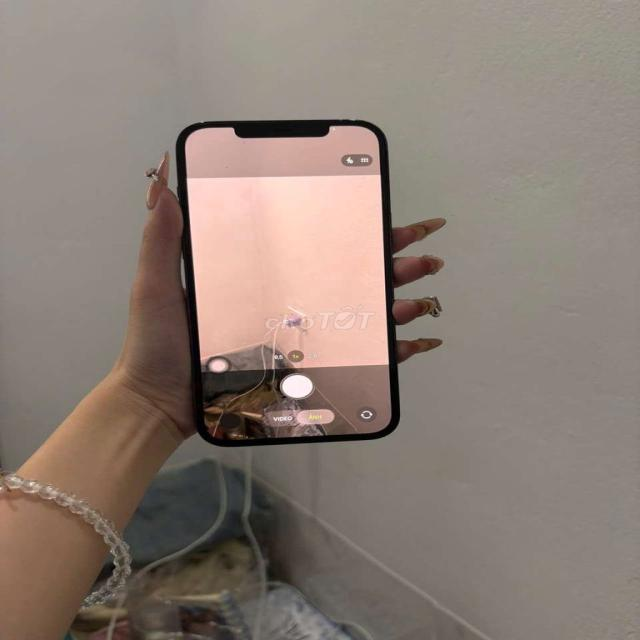gen_12_13: (168, 104, 426, 461)
